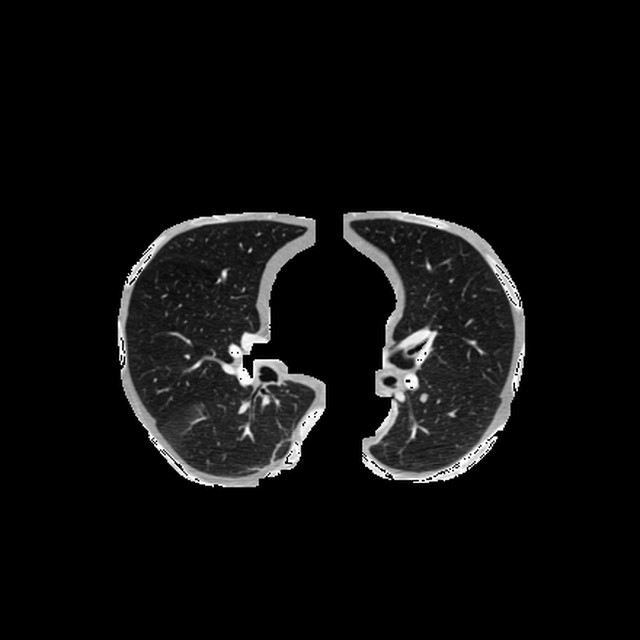PN: (419, 393, 428, 401)
